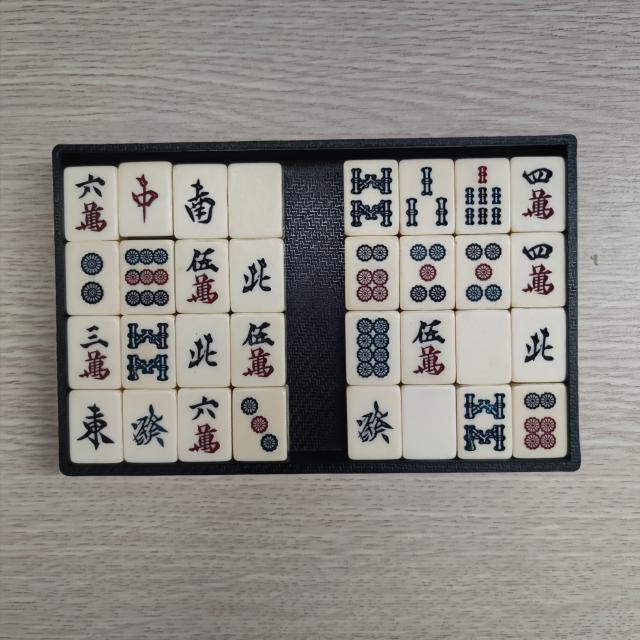hdg: (128, 395, 172, 458), (354, 392, 397, 454)
hdr: (123, 165, 166, 231)
hdw: (464, 315, 508, 380), (232, 170, 275, 235), (408, 392, 450, 456)
hwe: (75, 396, 119, 459)
hwn: (233, 246, 276, 310), (183, 319, 226, 382), (516, 315, 558, 379)
hws: (179, 168, 224, 233)
sb3: (406, 166, 452, 234)
sb7: (461, 164, 506, 230)
sb8: (347, 162, 394, 230), (126, 320, 172, 386), (463, 390, 508, 456)
sc3: (73, 320, 116, 386)
sc4: (519, 164, 562, 228), (518, 240, 561, 304)
sc5: (180, 243, 225, 310), (238, 318, 282, 383), (406, 314, 449, 380)
sc6: (71, 170, 114, 236), (182, 393, 225, 458)
sd2: (72, 247, 115, 313)
sd3: (236, 393, 282, 458)
sd5: (404, 240, 450, 306), (462, 240, 507, 306)
sd6: (520, 390, 562, 456), (352, 243, 394, 307)
sd8: (351, 316, 394, 381)
sd9: (122, 244, 172, 311)
